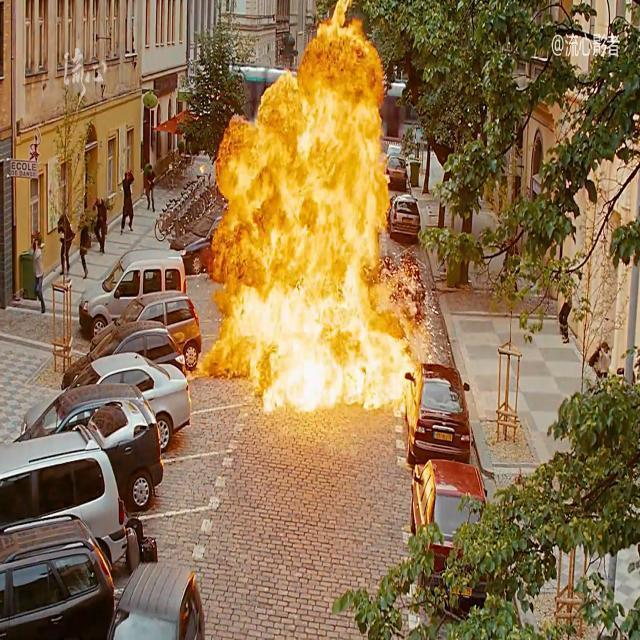fire: (192, 0, 422, 425)
